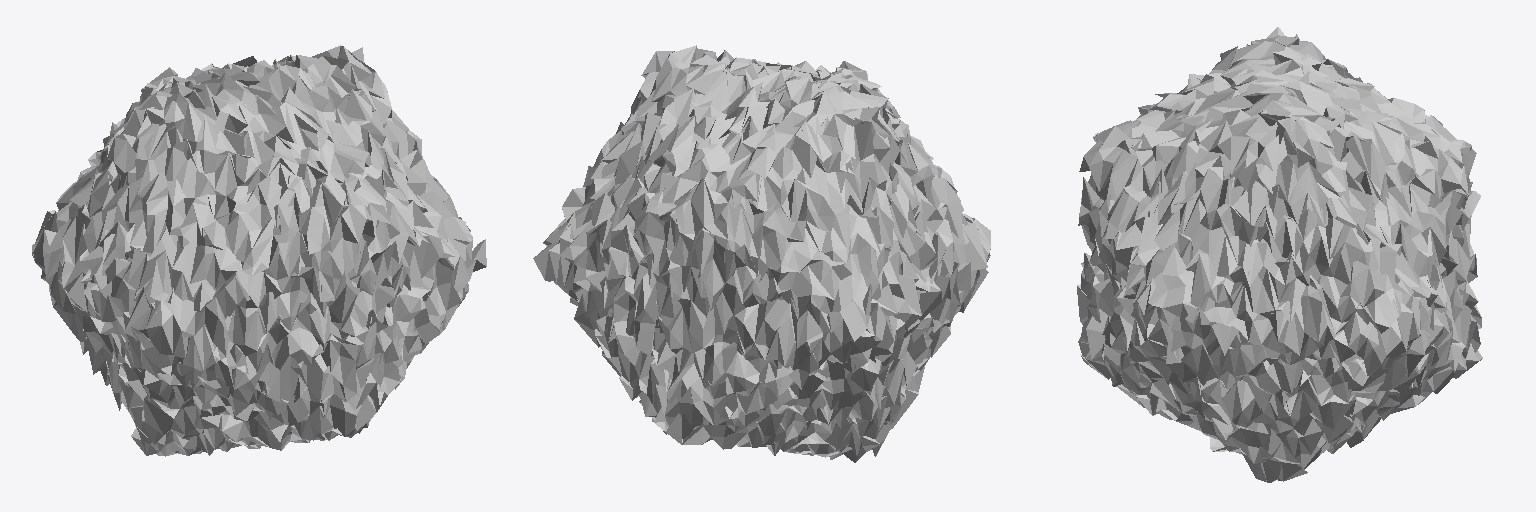
The model's file is pink_object.obj.
The picture shows the model from 3 angles: view 1: azimuth 30°, elevation 25°; view 2: azimuth 150°, elevation 25°; view 3: azimuth 270°, elevation 25°; orthographic projection.
Visible parts, largest first — view 1: Sphere.1; view 2: Sphere.1; view 3: Sphere.1.
Boxes of the visible parts, x1,y1,x2,y2 form: Sphere.1: [32, 45, 486, 456]; Sphere.1: [533, 45, 990, 462]; Sphere.1: [1077, 27, 1482, 482].
Size of the model in its own units: 150 by 150 by 149.